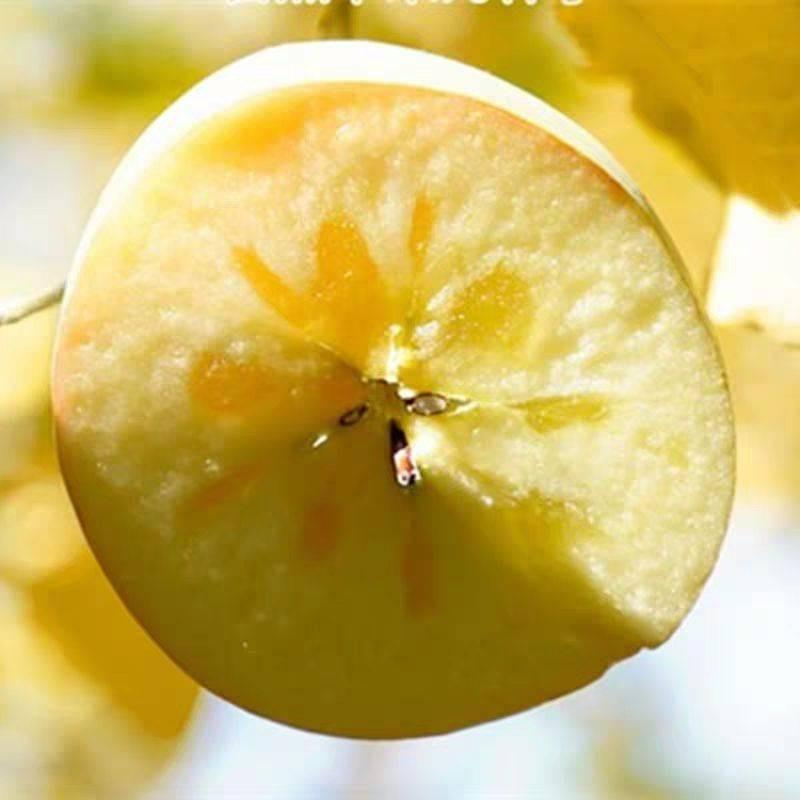apple: (45, 41, 738, 737)
